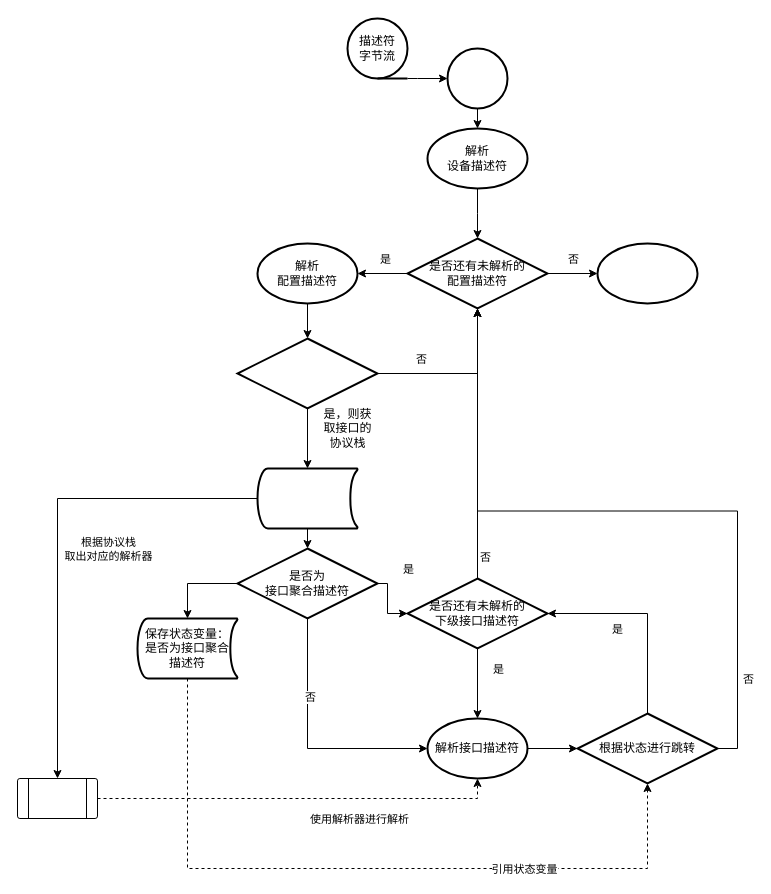
Image size: 771x894. Some labels were removed from this diagram. Here are the shapes that lost their labels. From the top down, the centre of each, then its label:
[477,78]: 解析开始
[647,273]: 解析结束
[307,373]: 是否还有未解析的 接口
[307,498]: 所解析出的 协议栈
[57,798]: 特定协议的解析器
